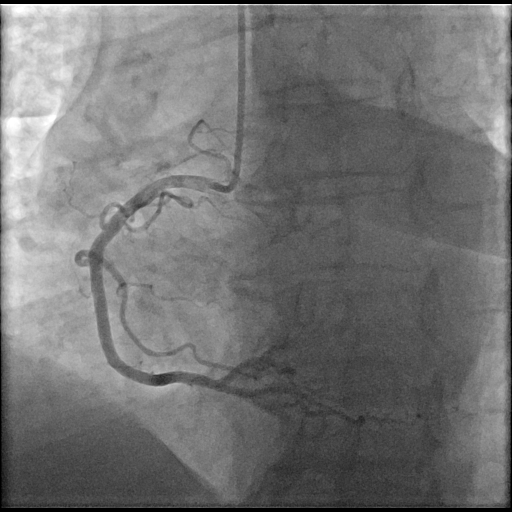RCA: (75, 175, 311, 401)
catherter: (210, 5, 246, 193)
